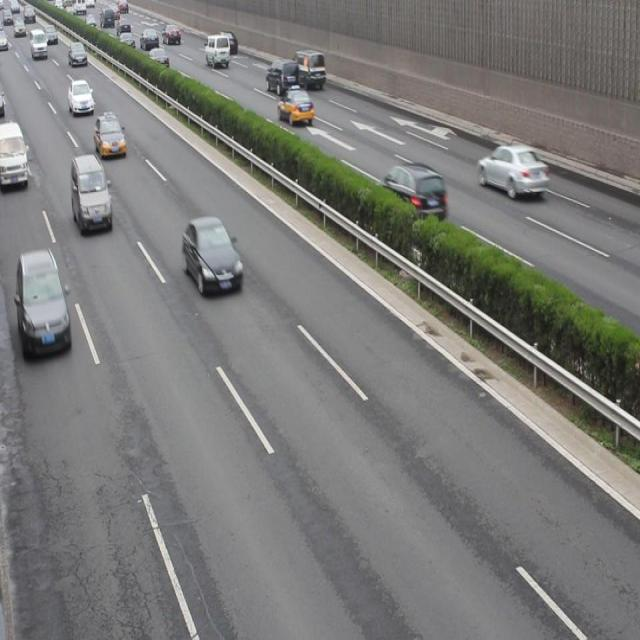car: (18, 250, 72, 358), (182, 217, 242, 294), (379, 163, 447, 225), (478, 143, 547, 198), (95, 111, 126, 159), (278, 88, 313, 124), (68, 80, 95, 116), (148, 45, 169, 71), (162, 24, 182, 47), (69, 42, 88, 66), (142, 28, 159, 51), (218, 31, 237, 50), (118, 33, 135, 51)
truck: (72, 155, 112, 233), (1, 121, 29, 187), (294, 51, 327, 88), (266, 59, 297, 94), (204, 33, 229, 68)
